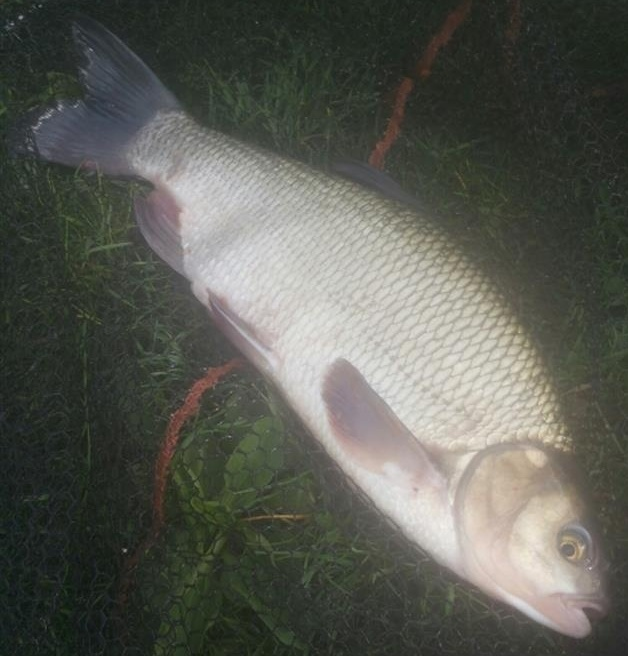Leuciscus idus: (18, 20, 608, 636)
